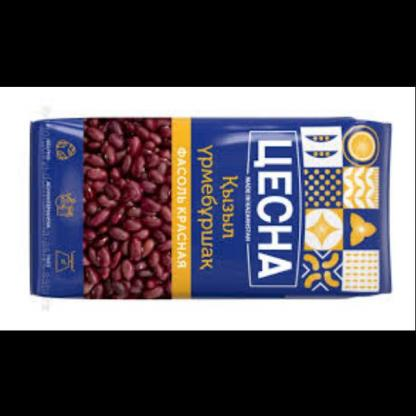fasol: (76, 106, 184, 300)
